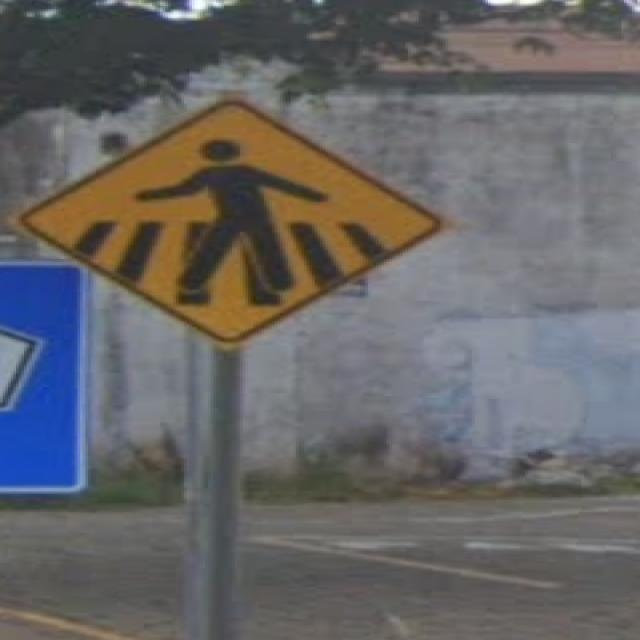pedestrian crossing: (21, 72, 478, 362)
